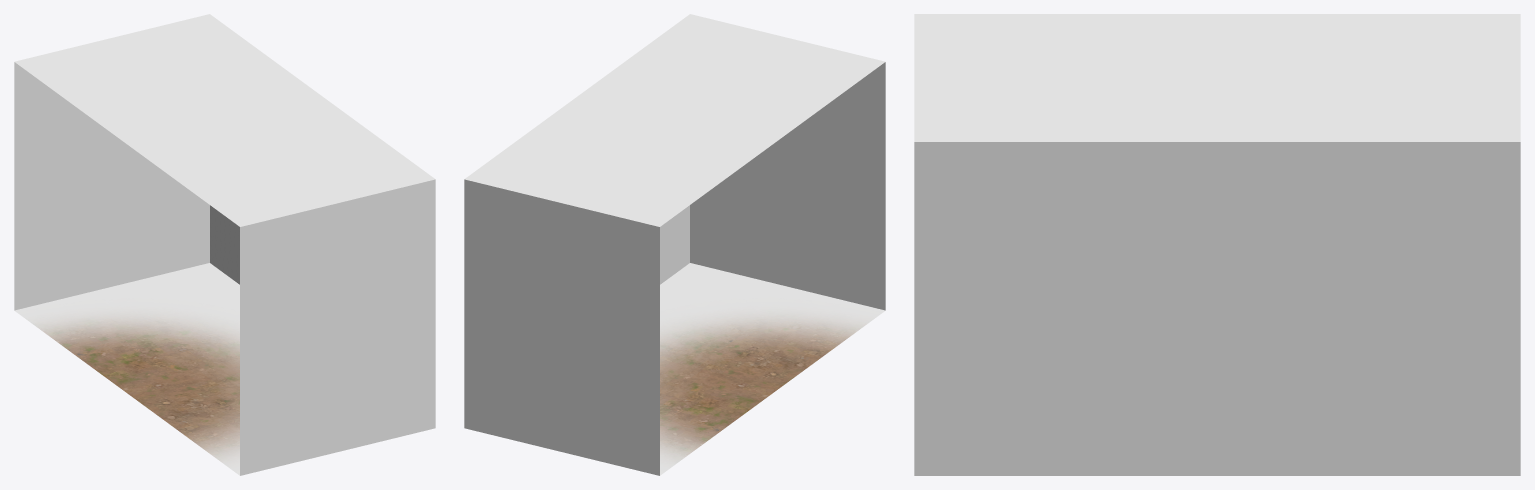
Rendered from Outdoor_box_1.fbx.
3 renders of one model, left to right at view 1: azimuth 30°, elevation 25°; view 2: azimuth 150°, elevation 25°; view 3: azimuth 270°, elevation 25°, orthographic. The views are drawn at different scales.
Visible parts, largest first — view 1: Outdoor_box_1; view 2: Outdoor_box_1; view 3: Outdoor_box_1.
Part boxes in pixels (<box>): Outdoor_box_1: <box>14,14,435,475</box>; Outdoor_box_1: <box>464,14,885,475</box>; Outdoor_box_1: <box>914,14,1520,475</box>.
Bounding box in the file's own units: 6.11 × 7.43 × 12.22.
